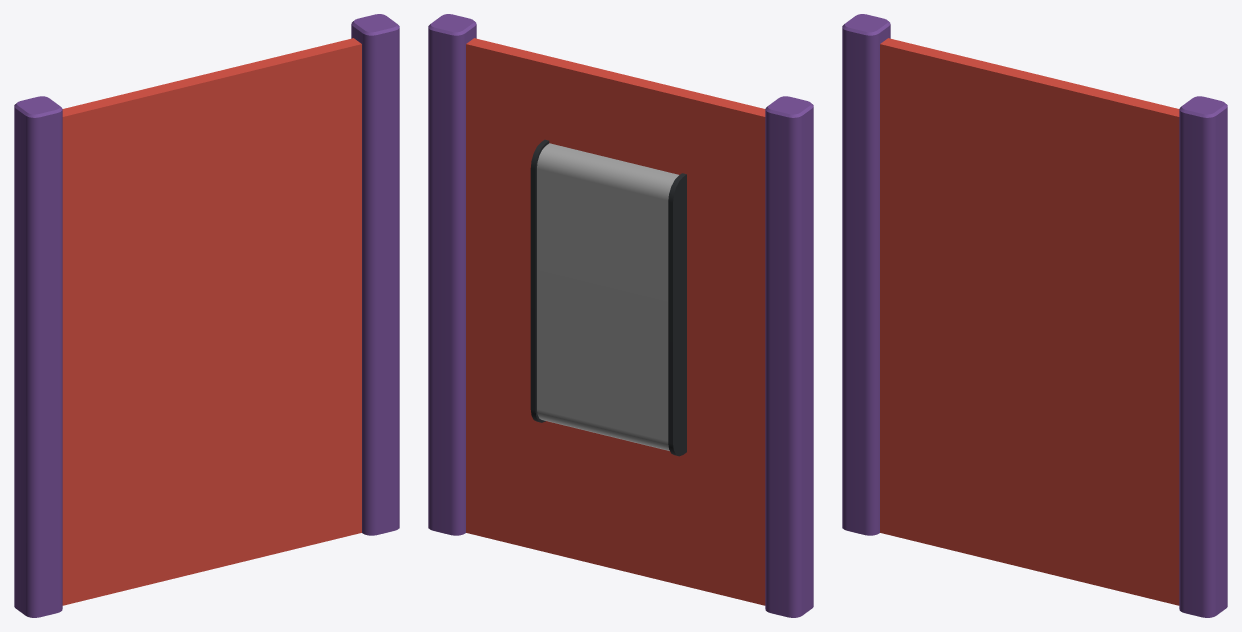
Rendered from SM_Gate_1H.fbx.
3 views of the same model, side by side, from view 1: azimuth 30°, elevation 25°; view 2: azimuth 150°, elevation 25°; view 3: azimuth 330°, elevation 25° (orthographic).
Parts seen in each view (by area): view 1: SM_Gate_1H; view 2: SM_Gate_1H; view 3: SM_Gate_1H.
Boxes of the visible parts, x1=… form: SM_Gate_1H: x1=14, y1=14, x2=399, y2=617; SM_Gate_1H: x1=428, y1=14, x2=813, y2=617; SM_Gate_1H: x1=842, y1=14, x2=1227, y2=617.
Bounding box in the file's own units: 314 × 404 × 41.35.
